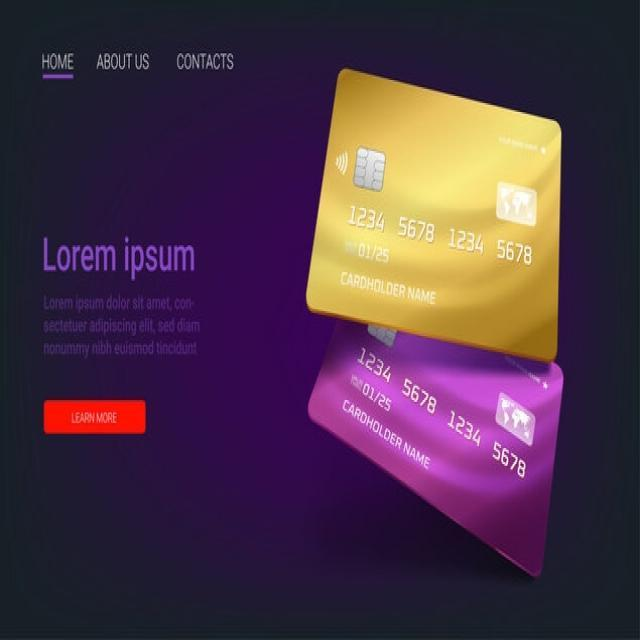payment_card: (304, 66, 562, 363), (306, 320, 564, 579)
